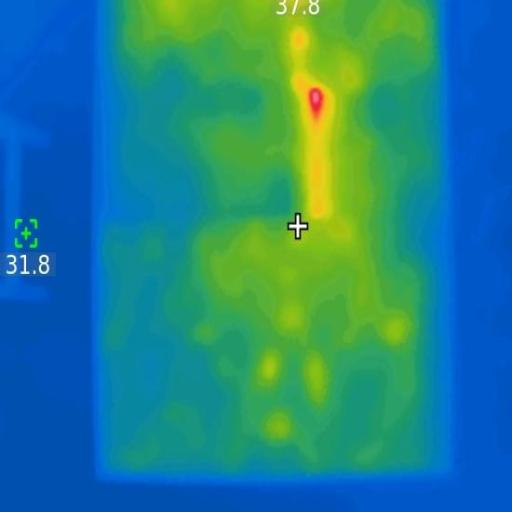hotspot: (307, 84, 328, 120)
